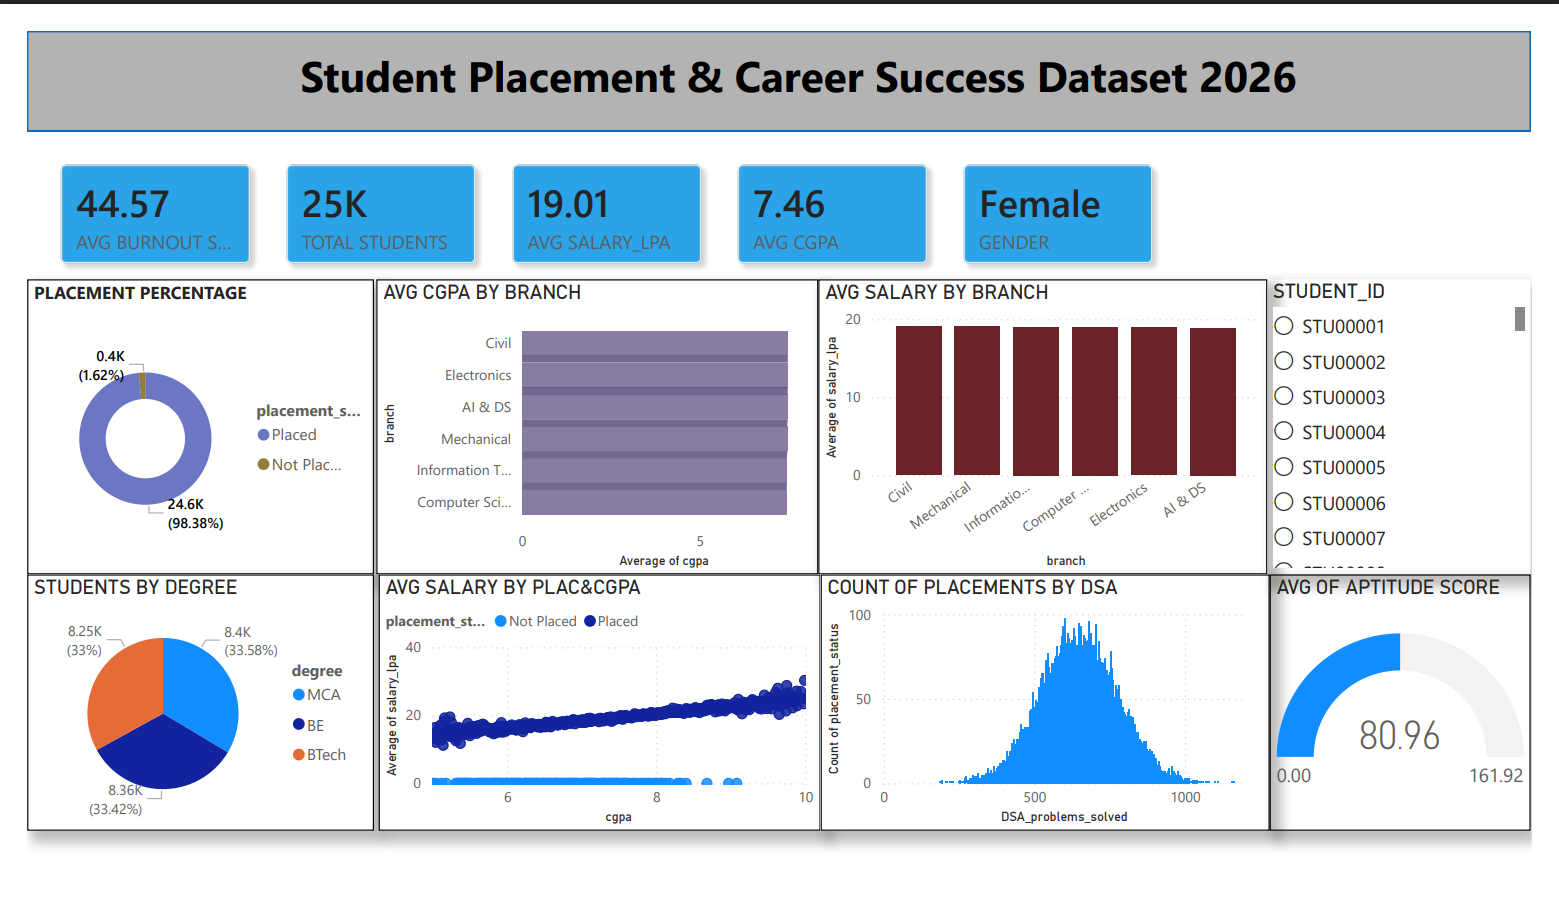

Layout of this report page (visuals, bound fields, positions):
{"tool":"powerbi","page":{"name":"Page 1","canvas":[1280,720],"ordinal":0},"visuals":[{"type":"shape","box":[0,0,1279.4,85],"z":0},{"type":"textbox","box":[51,7.6,1211.3,77.5],"z":1000},{"type":"cardVisual","fields":{"Data":["Avg(student_placement_career_success_dataset.burnout_score)","student_placement_career_success_dataset.Total Students","Avg(student_placement_career_success_dataset.salary_lpa)","Avg(student_placement_career_success_dataset.cgpa)","Min(student_placement_career_success_dataset.gender)"]},"box":[148.3,85.3,986.4,140.9],"z":2000},{"type":"donutChart","title":"PLACEMENT PERCENTAGE","fields":{"Category":["student_placement_career_success_dataset.placement_status"],"Y":["CountNonNull(student_placement_career_success_dataset.student_id)"]},"box":[0,211.4,294.8,250.3],"z":3000},{"type":"barChart","title":"AVG CGPA BY BRANCH","fields":{"Category":["student_placement_career_success_dataset.branch"],"Y":["Avg(student_placement_career_success_dataset.cgpa)"]},"box":[296.7,211.4,376.4,250.3],"z":4000},{"type":"pieChart","title":"STUDENTS BY DEGREE","fields":{"Category":["student_placement_career_success_dataset.degree"],"Y":["CountNonNull(student_placement_career_success_dataset.student_id)"]},"box":[0,461.7,294.8,218.8],"z":5000},{"type":"scatterChart","title":"AVG SALARY BY PLAC&CGPA","fields":{"X":["student_placement_career_success_dataset.cgpa"],"Y":["Avg(student_placement_career_success_dataset.salary_lpa)"],"Series":["student_placement_career_success_dataset.placement_status"]},"box":[298.5,461.7,376.4,218.8],"z":6000},{"type":"clusteredColumnChart","title":"AVG SALARY BY BRANCH","fields":{"Category":["student_placement_career_success_dataset.branch"],"Y":["Avg(student_placement_career_success_dataset.salary_lpa)"]},"box":[673.1,211.4,382,250.3],"z":7000},{"type":"clusteredColumnChart","title":"COUNT OF PLACEMENTS BY DSA","fields":{"Y":["CountNonNull(student_placement_career_success_dataset.placement_status)"],"Category":["student_placement_career_success_dataset.DSA_problems_solved"]},"box":[674.9,461.7,382,218.8],"z":8000},{"type":"listSlicer","title":"STUDENT_ID","fields":{"Values":["student_placement_career_success_dataset.student_id"]},"box":[1055,211.4,224.4,250.3],"z":9000},{"type":"gauge","title":"AVG OF APTITUDE SCORE","fields":{"Y":["Avg(student_placement_career_success_dataset.aptitude_score)"]},"box":[1056.9,461.7,222.5,218.8],"z":10000}]}

Visuals, with their boxes in screenshot pixels (x1, y1, x2, y2), scaled from the page's 1280x720 canvas onto the 1559x901 screenshot:
shape: {"x1": 0, "y1": 0, "x2": 1558, "y2": 106}
textbox: {"x1": 62, "y1": 10, "x2": 1537, "y2": 106}
cardVisual - Avg(student_placement_career_success_dataset.burnout_score) x student_placement_career_success_dataset.Total Students: {"x1": 181, "y1": 107, "x2": 1382, "y2": 283}
"PLACEMENT PERCENTAGE" donutChart: {"x1": 0, "y1": 265, "x2": 359, "y2": 578}
"AVG CGPA BY BRANCH" barChart: {"x1": 361, "y1": 265, "x2": 820, "y2": 578}
"STUDENTS BY DEGREE" pieChart: {"x1": 0, "y1": 578, "x2": 359, "y2": 852}
"AVG SALARY BY PLAC&CGPA" scatterChart: {"x1": 364, "y1": 578, "x2": 822, "y2": 852}
"AVG SALARY BY BRANCH" clusteredColumnChart: {"x1": 820, "y1": 265, "x2": 1285, "y2": 578}
"COUNT OF PLACEMENTS BY DSA" clusteredColumnChart: {"x1": 822, "y1": 578, "x2": 1287, "y2": 852}
"STUDENT_ID" listSlicer: {"x1": 1285, "y1": 265, "x2": 1558, "y2": 578}
"AVG OF APTITUDE SCORE" gauge: {"x1": 1287, "y1": 578, "x2": 1558, "y2": 852}
